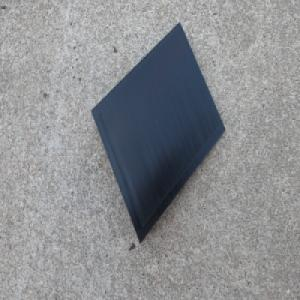PlasticPart: (89, 20, 226, 245)
